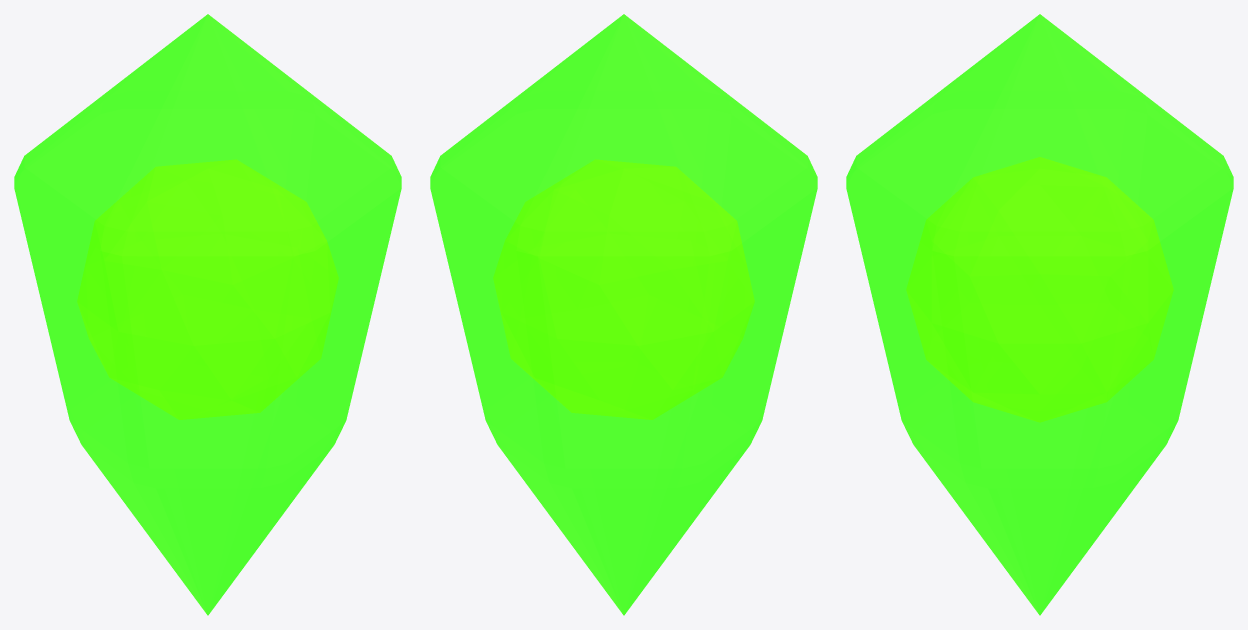
Rendered from poin.xx.t1.fbx.
The picture shows the model from 3 angles, left to right: view 1: azimuth 30°, elevation 25°; view 2: azimuth 150°, elevation 25°; view 3: azimuth 270°, elevation 25°; orthographic projection.
Visible parts, largest first — view 1: Cube; view 2: Cube; view 3: Cube.
Boxes of the visible parts, x1,y1,x2,y2 form: Cube: (14, 14, 401, 615); Cube: (430, 14, 817, 615); Cube: (846, 14, 1233, 615).
Size of the model in its own units: 2.44 by 4.66 by 2.72.
